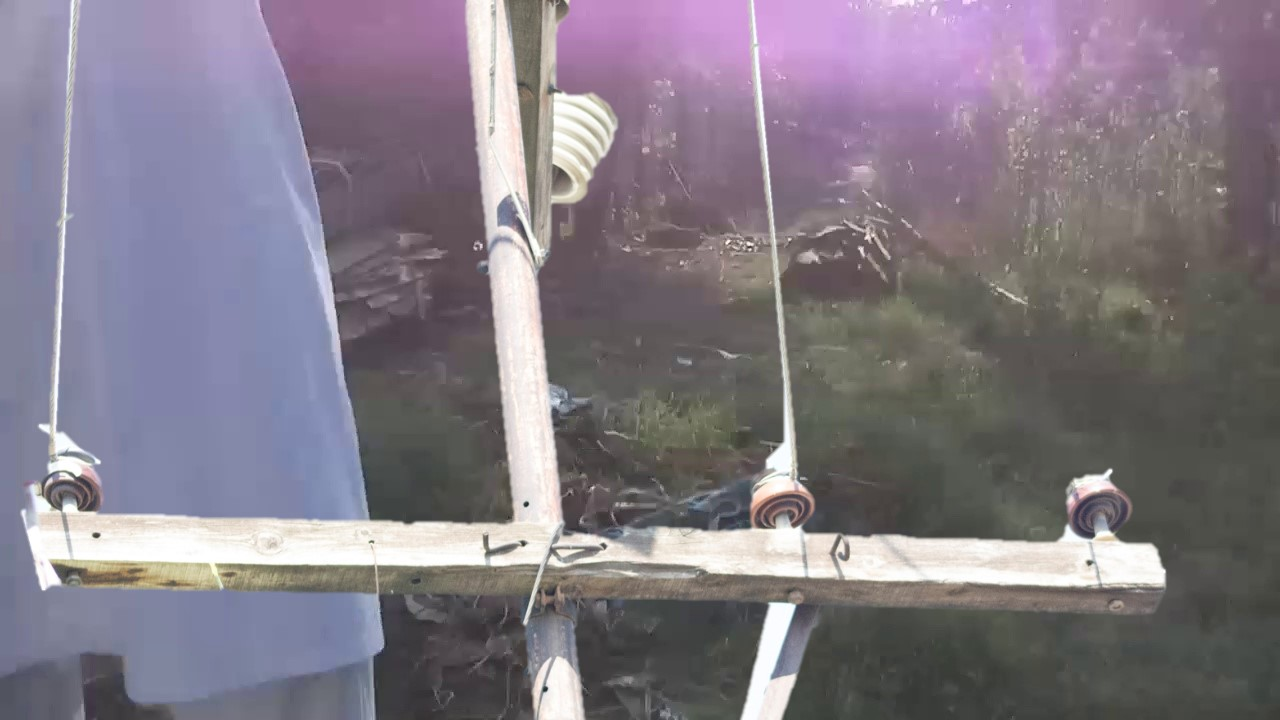defect_pin: (32, 450, 105, 514)
insulator_pin: (1058, 467, 1136, 541), (746, 464, 822, 531)
